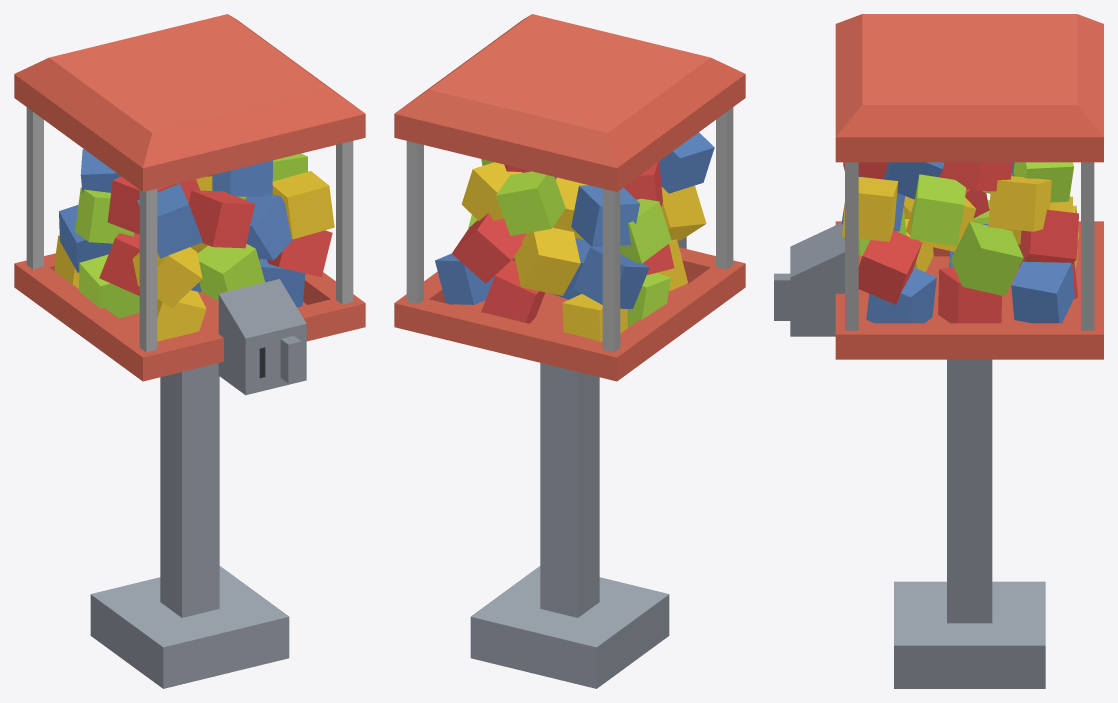
The model's file is GumballMachine.glb.
3 renders of one model, left to right at view 1: azimuth 30°, elevation 25°; view 2: azimuth 150°, elevation 25°; view 3: azimuth 270°, elevation 25°, orthographic. The views are drawn at different scales.
Parts seen in each view (by area): view 1: SI_Prop_GumballMachine; view 2: SI_Prop_GumballMachine; view 3: SI_Prop_GumballMachine.
Part boxes in pixels (x1=…): SI_Prop_GumballMachine: x1=14, y1=14, x2=365, y2=688; SI_Prop_GumballMachine: x1=394, y1=14, x2=745, y2=688; SI_Prop_GumballMachine: x1=774, y1=14, x2=1103, y2=688.
Size of the model in its own units: 0.00866 by 0.0213 by 0.0107.
Materials: 1 (1 with a texture image).
